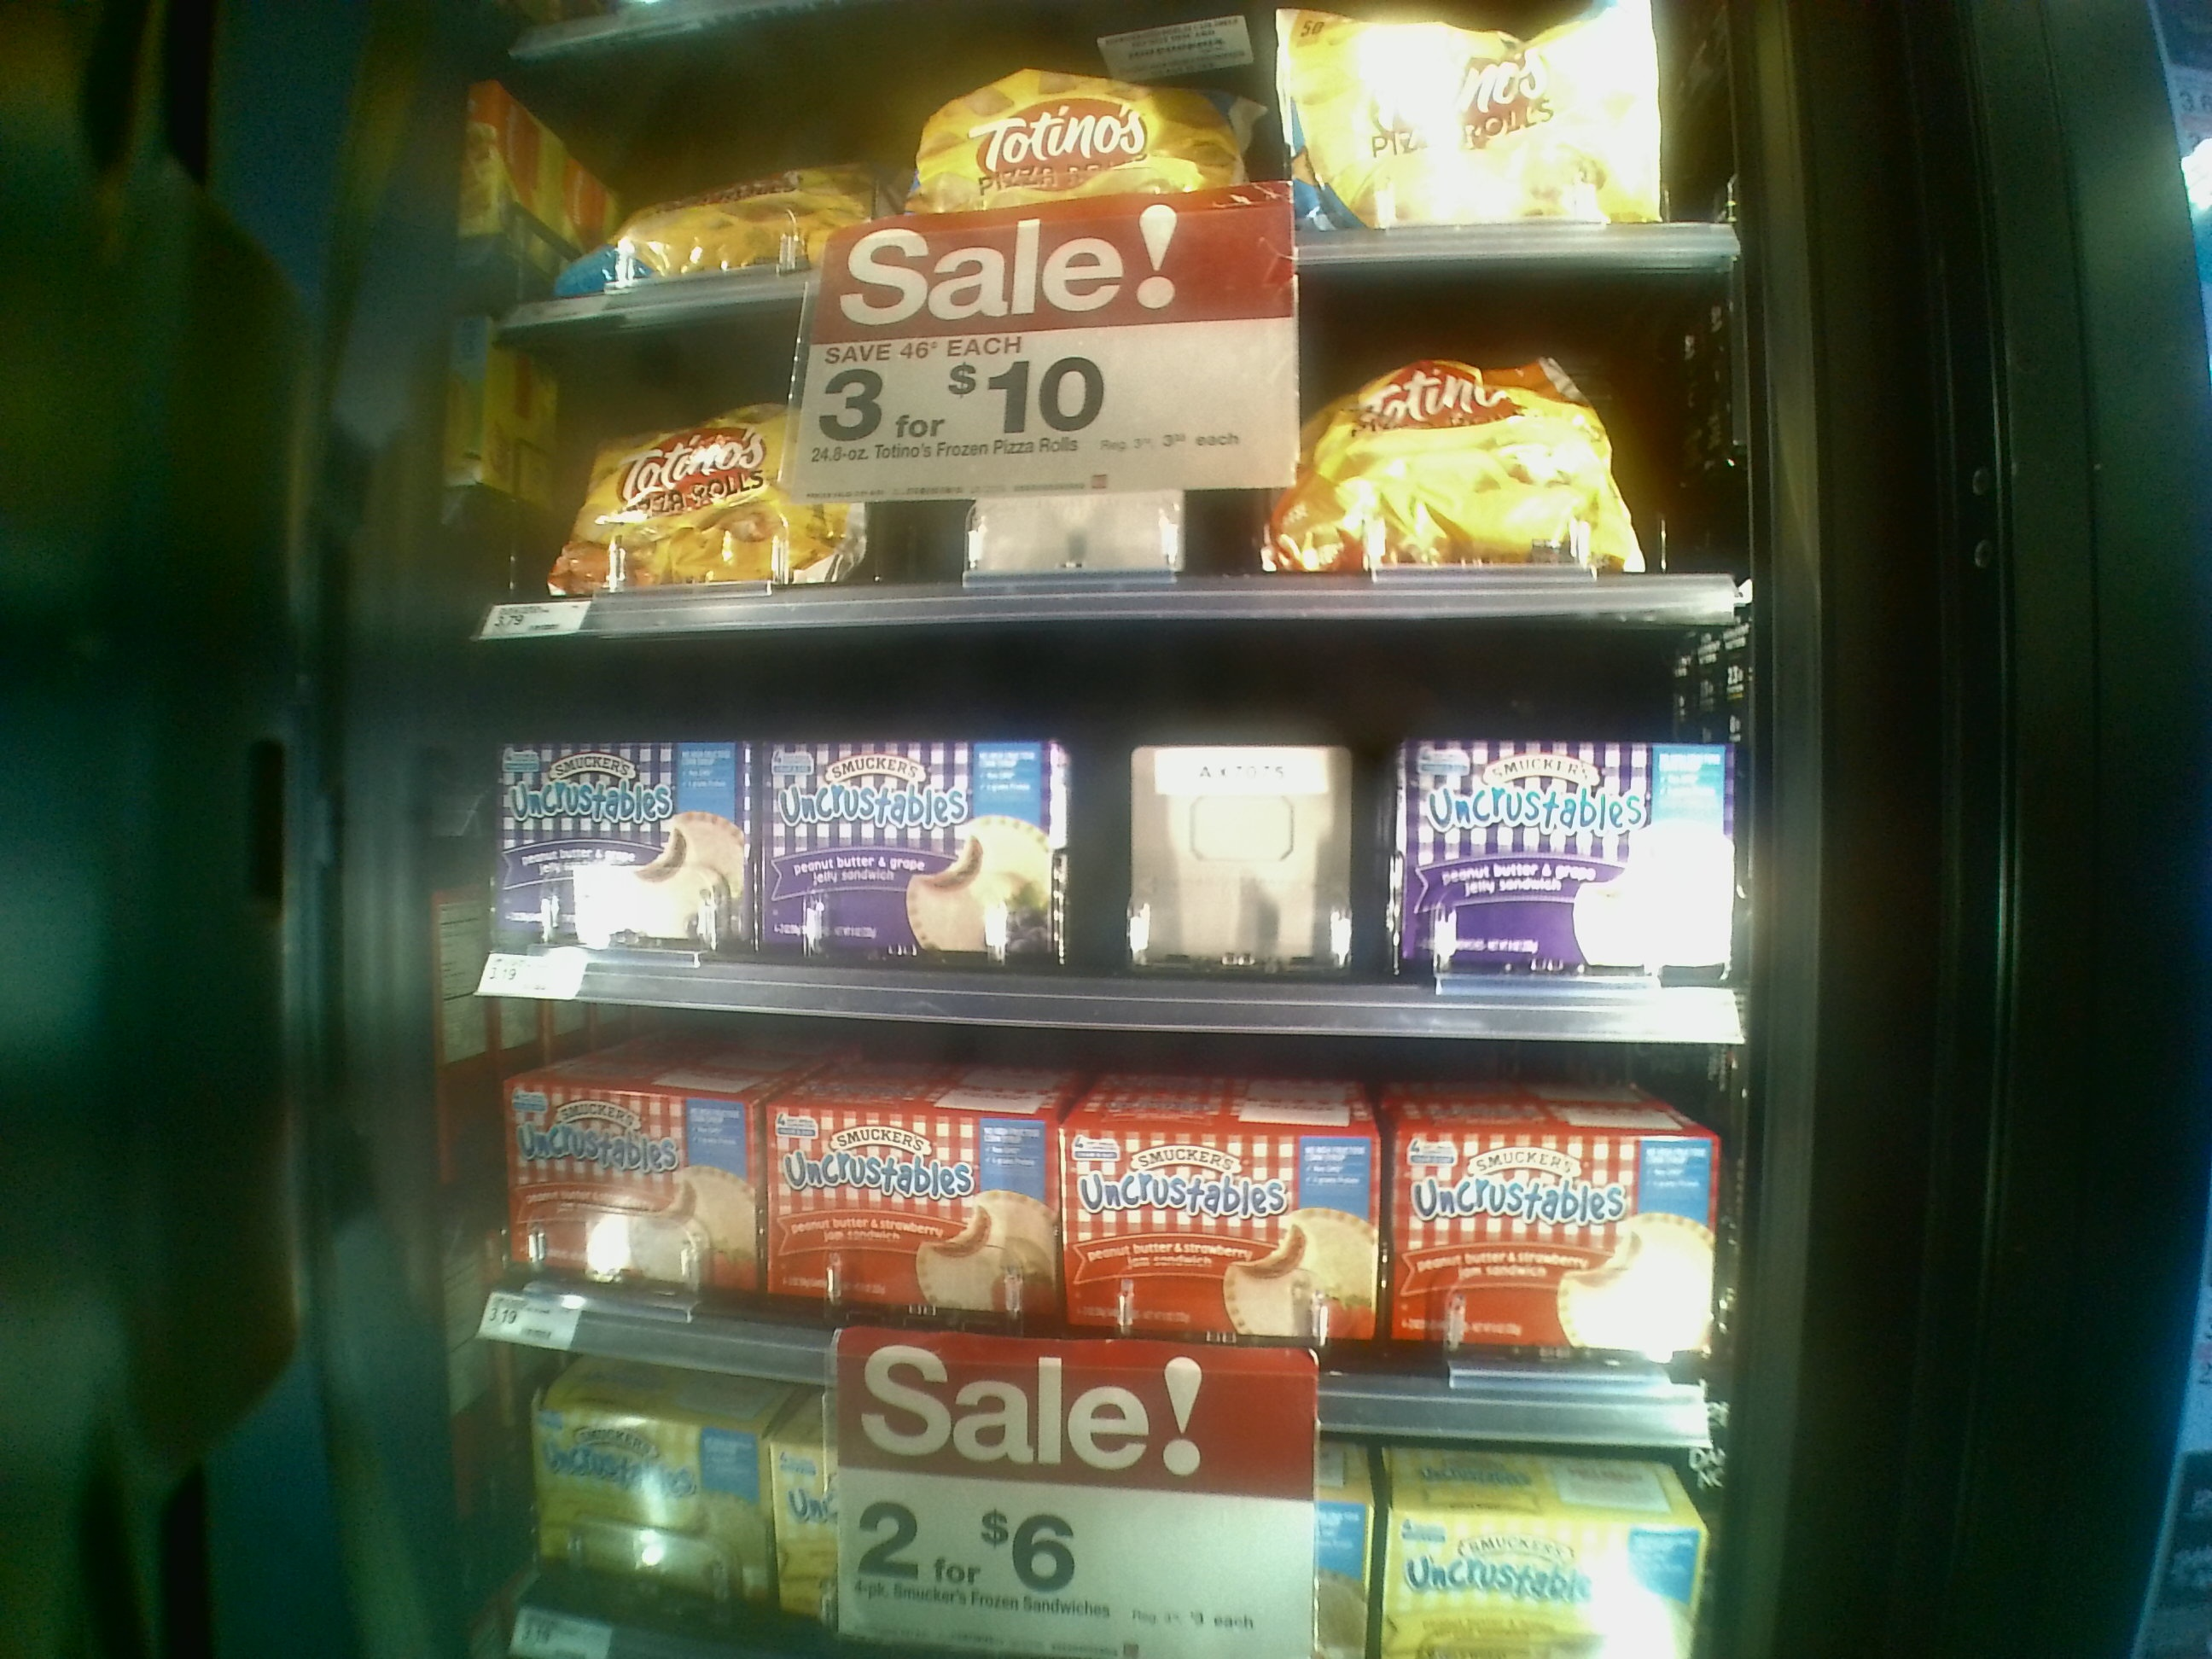shelf: (465, 978, 1721, 1448), (474, 626, 1740, 1030), (488, 314, 1707, 633)
